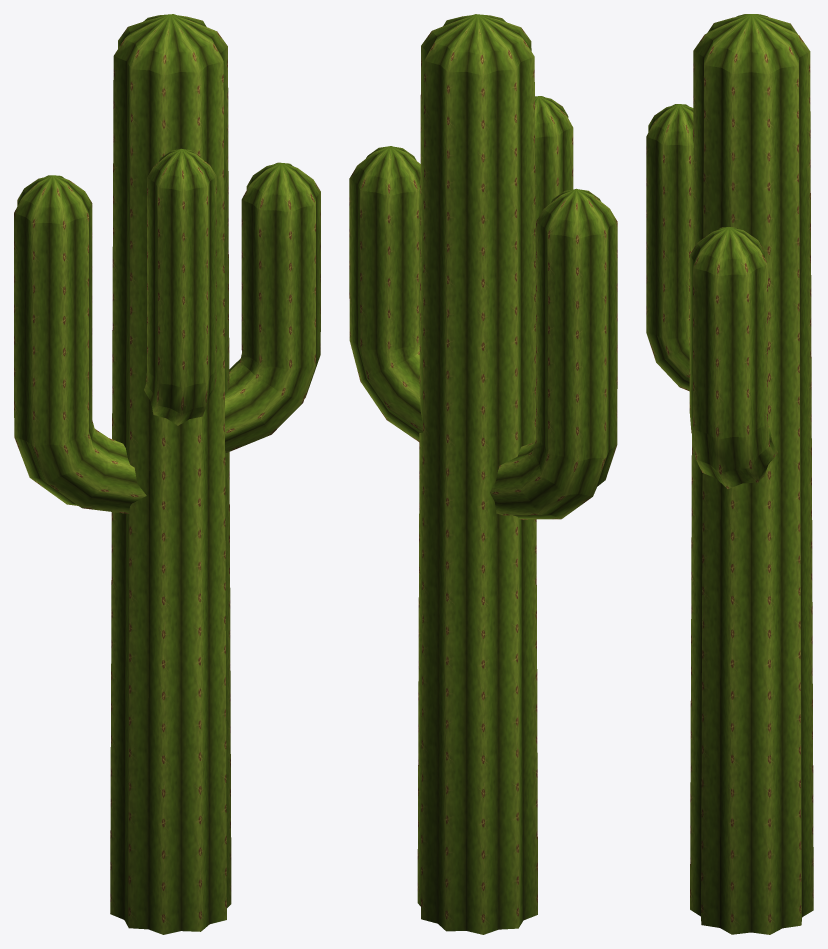
The model's file is mm8_deco_plant52.glb.
3 views of the same model, side by side, from view 1: azimuth 30°, elevation 25°; view 2: azimuth 150°, elevation 25°; view 3: azimuth 270°, elevation 25° (orthographic).
Visible parts, largest first — view 1: Plant; view 2: Plant; view 3: Plant.
Part boxes in pixels (x1=…): Plant: x1=14, y1=14, x2=320, y2=934; Plant: x1=349, y1=14, x2=617, y2=934; Plant: x1=646, y1=14, x2=813, y2=934.
Bounding box in the file's own units: 0.9854 × 3.06 × 0.5183.
1 material, 1 textured.
